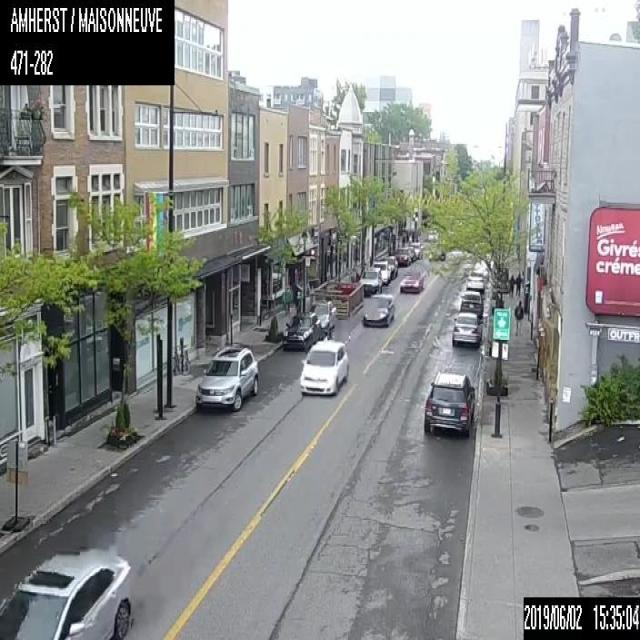pedestrian: (513, 298, 524, 330), (514, 271, 522, 294), (508, 273, 514, 296)
vehicle: (0, 545, 132, 639), (194, 345, 261, 411), (424, 369, 474, 439), (300, 339, 348, 394), (282, 312, 320, 349), (362, 294, 394, 326), (452, 312, 482, 346), (308, 300, 336, 334), (358, 266, 382, 294), (460, 290, 484, 316), (399, 271, 425, 292), (372, 259, 390, 284), (466, 269, 484, 293), (382, 254, 398, 278), (394, 247, 410, 265)
